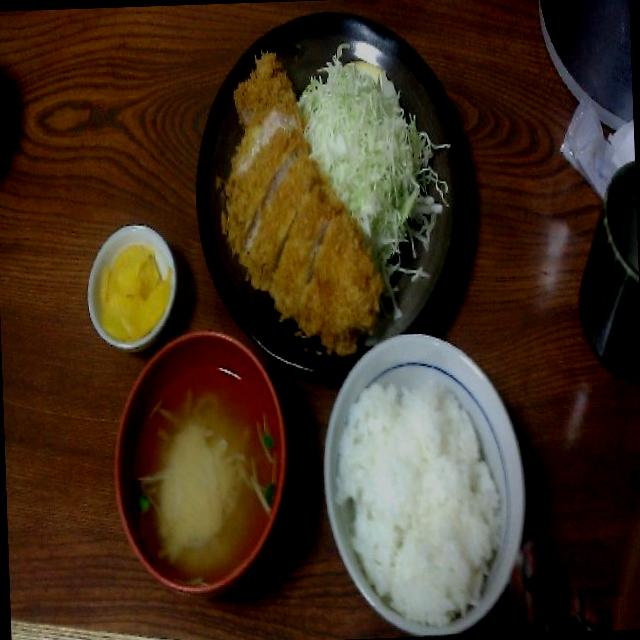Rice: (320, 372, 513, 634)
